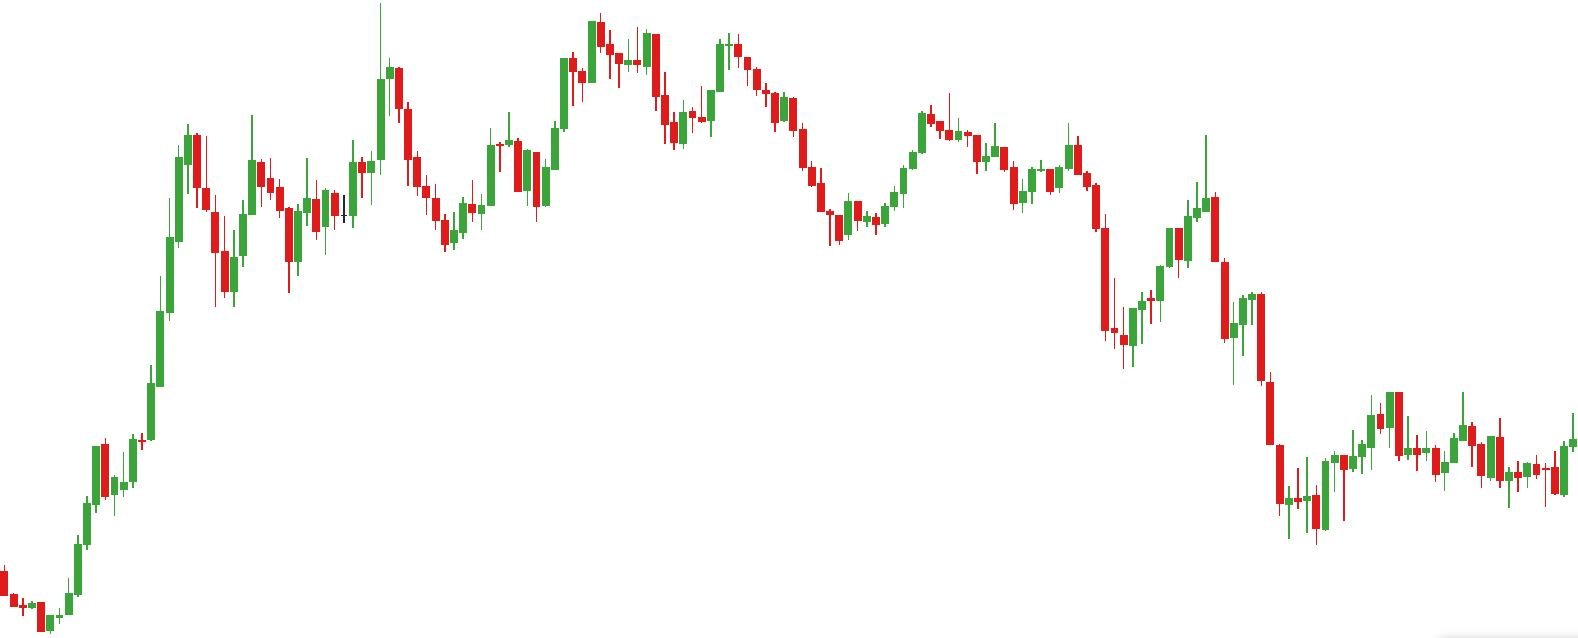buy: (341, 128, 468, 262), (238, 168, 305, 295)
